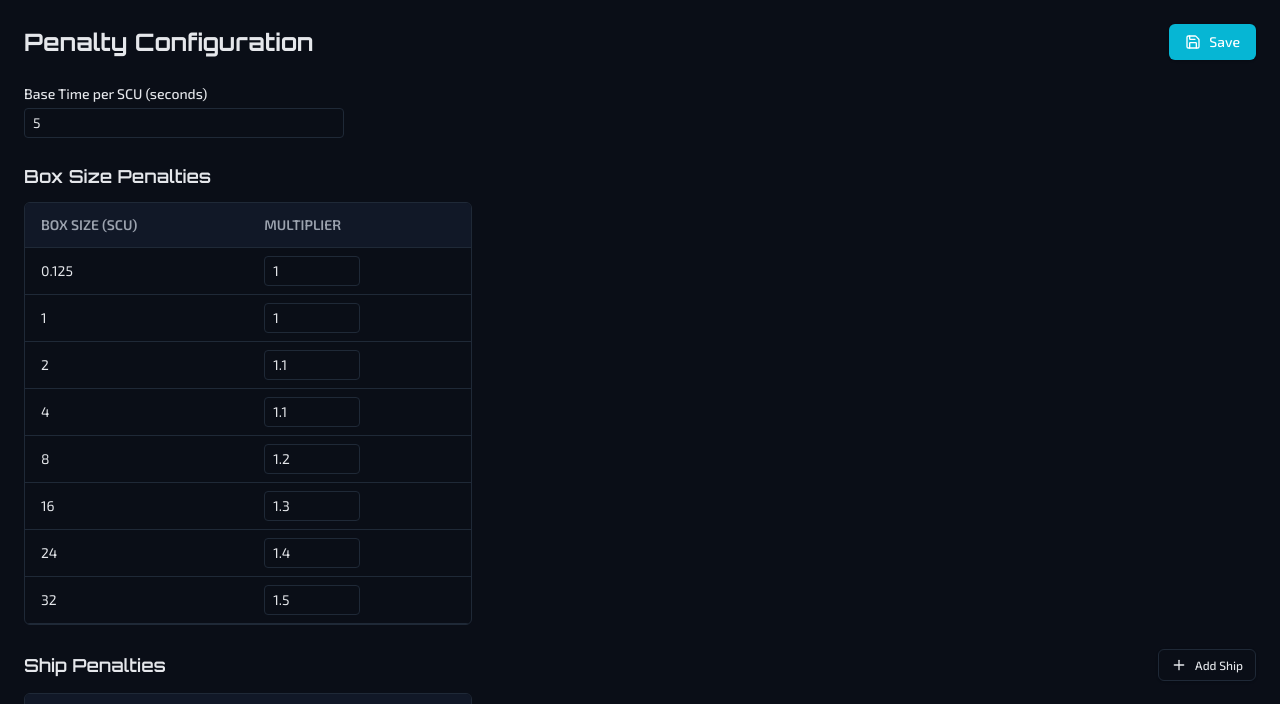
Test: PenaltyConfigPage › shows success toast on save
The image size is (1280, 704).
Expected: the heading "Penalty Configuration" is shown, [24,26,313,58]
Click the button "Save": (1213, 42) [1169,24,1256,60]
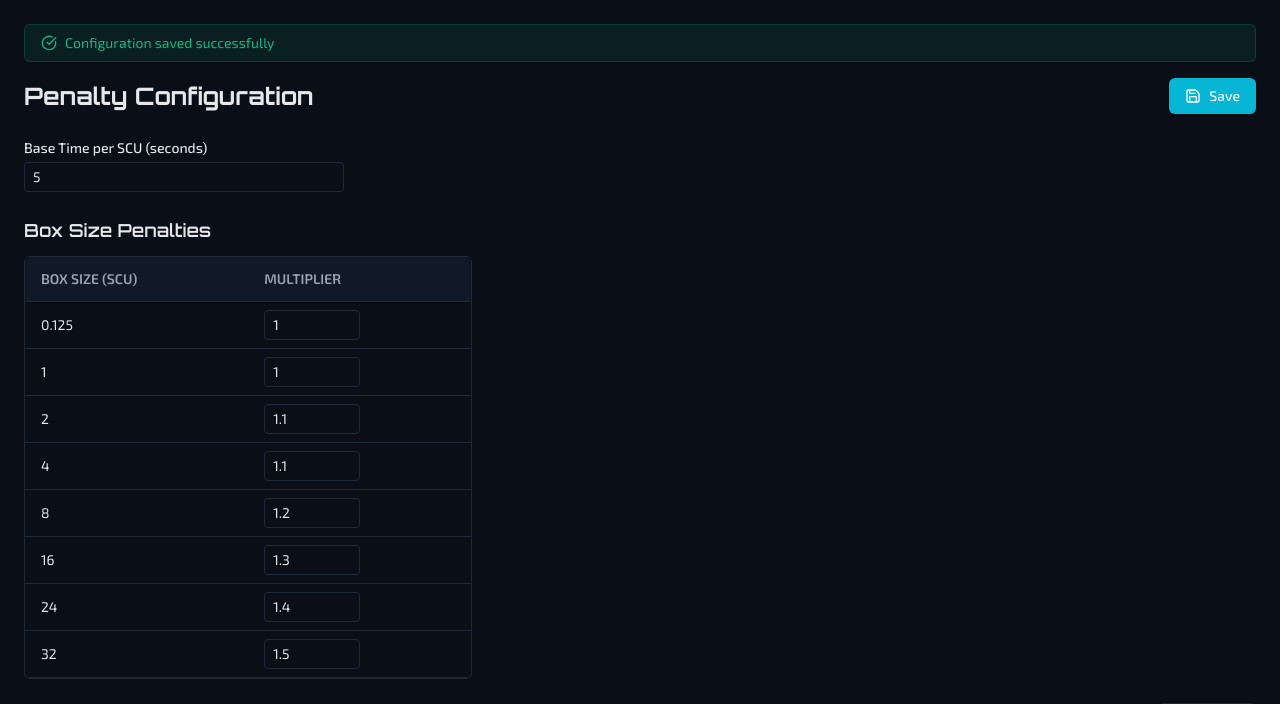
Now the text "Configuration saved successfully" is shown, box [24,24,1256,62]
